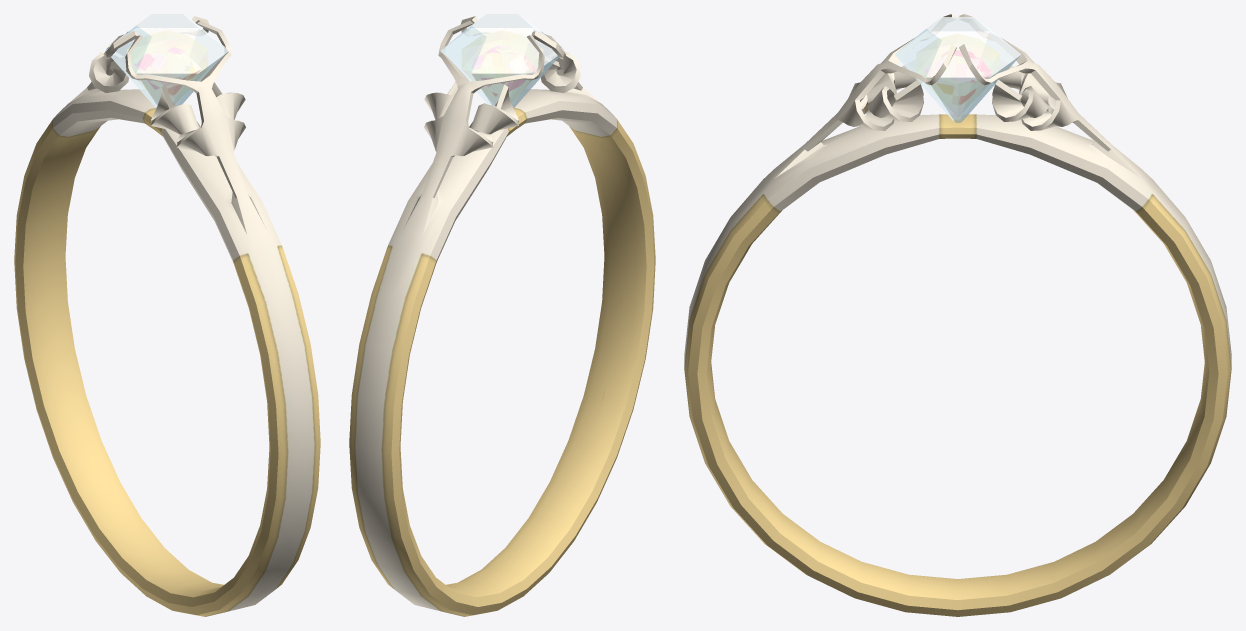
File: the_ring_1_carat.5627277bbe.glb
The picture shows the model from 3 angles, left to right: view 1: azimuth 30°, elevation 25°; view 2: azimuth 150°, elevation 25°; view 3: azimuth 270°, elevation 25°; orthographic projection. The views are drawn at different scales.
Parts seen in each view (by area): view 1: Thering; view 2: Thering; view 3: Thering.
Part boxes in pixels (bbox=[...]): Thering: bbox=[14, 14, 320, 616]; Thering: bbox=[349, 14, 655, 616]; Thering: bbox=[684, 14, 1231, 616].
Bounding box in the file's own units: 0.3738 × 2 × 1.71.
1 material, 1 textured.
